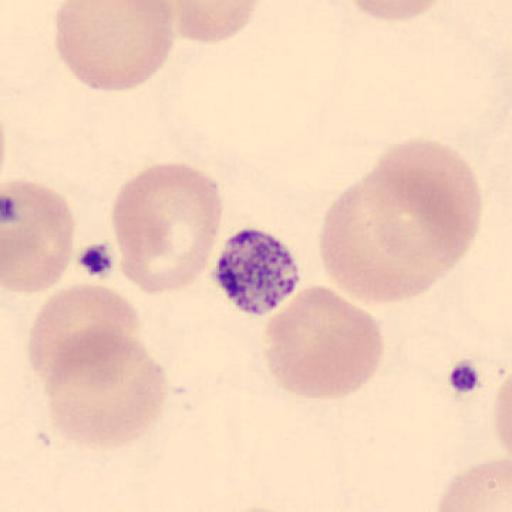Platelet: (208, 226, 304, 317)
RBC: (43, 324, 170, 450), (319, 179, 442, 308), (112, 161, 224, 295), (363, 138, 482, 264), (263, 283, 386, 402), (27, 282, 141, 384), (53, 0, 176, 93), (2, 179, 76, 295), (436, 455, 512, 512), (167, 0, 263, 44), (346, 0, 450, 23), (490, 368, 512, 463), (493, 377, 512, 456)
